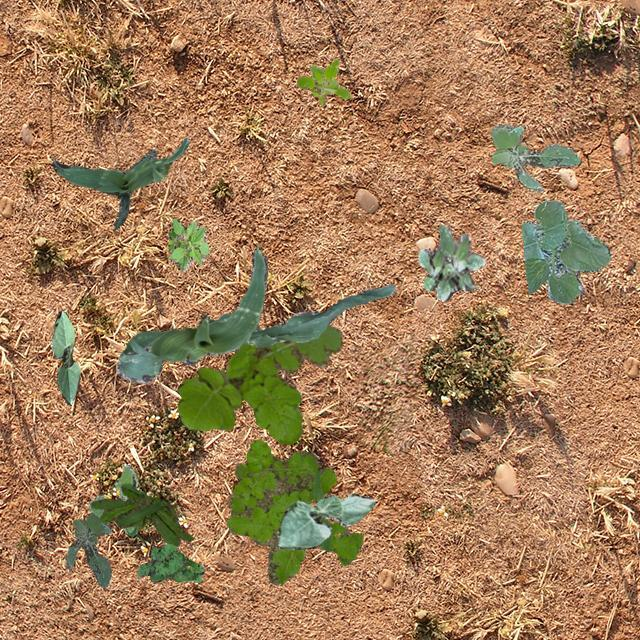crop: (114, 246, 396, 382), (50, 136, 188, 228), (520, 198, 610, 304), (276, 492, 374, 548), (50, 310, 80, 404)
weed: (226, 438, 362, 584), (177, 324, 340, 444), (90, 482, 192, 546), (490, 122, 578, 192), (418, 223, 484, 300), (88, 464, 138, 534), (64, 512, 110, 586), (136, 542, 203, 582), (296, 58, 350, 104), (168, 218, 208, 270)
